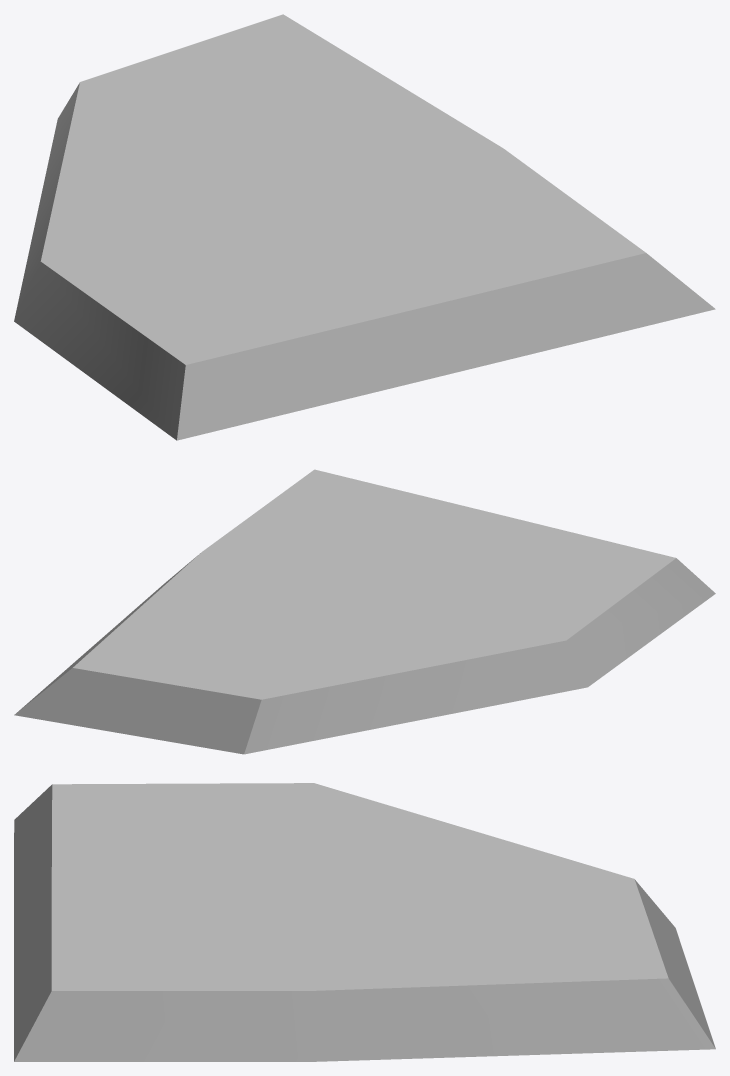
Rendered from stone_01.FBX.
3 views of the same model, one above another, from view 1: azimuth 30°, elevation 25°; view 2: azimuth 150°, elevation 25°; view 3: azimuth 270°, elevation 25° (orthographic). The views are drawn at different scales.
Visible parts, largest first — view 1: stone_01; view 2: stone_01; view 3: stone_01.
Part boxes in pixels (bbox=[...]): stone_01: bbox=[14, 14, 715, 440]; stone_01: bbox=[14, 469, 715, 754]; stone_01: bbox=[14, 783, 715, 1061].
Size of the model in its own units: 0.6162 by 0.0582 by 0.7555.
Materials: 1 (1 with a texture image).
